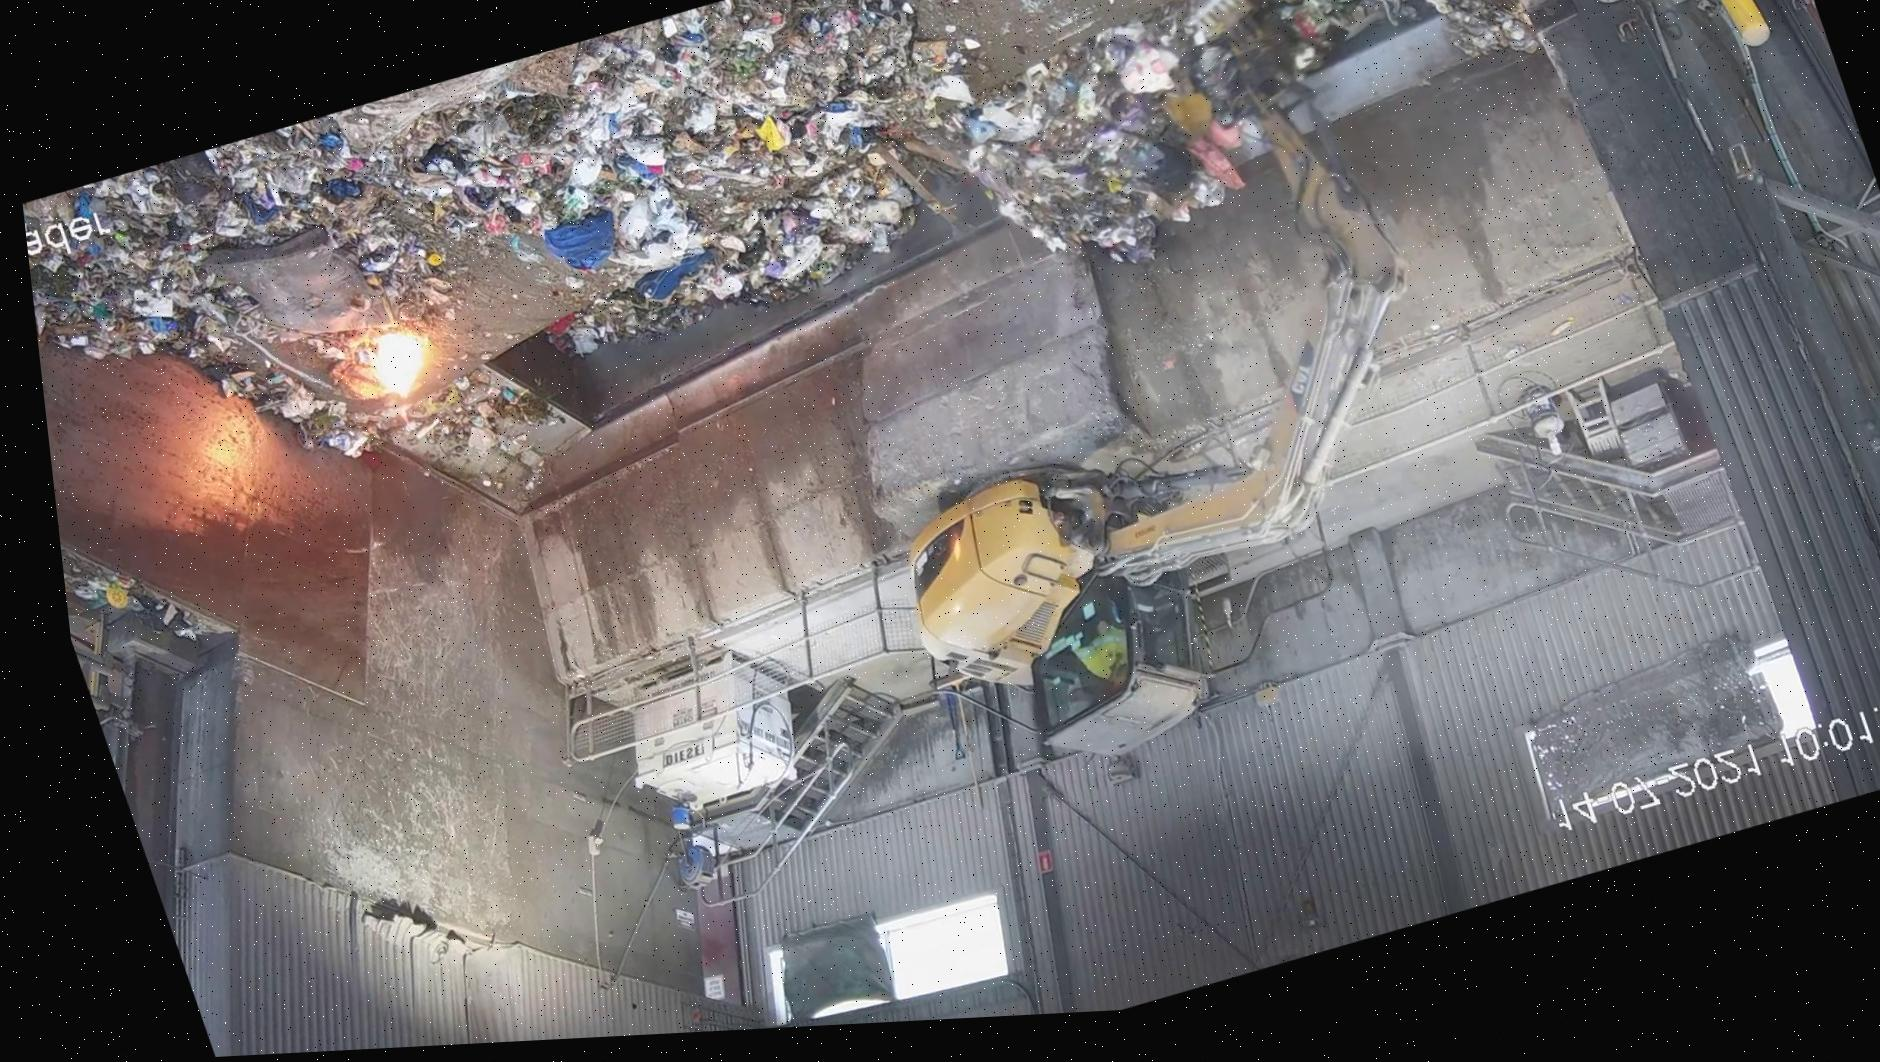fire: (220, 235, 589, 475)
